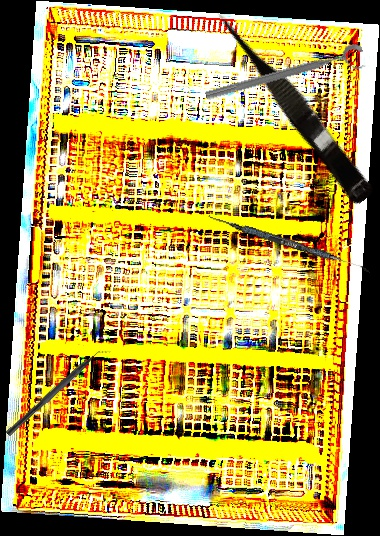Chopper: (5, 342, 113, 443)
Fixation Ring: (203, 42, 368, 113)
Micro Scissor: (208, 0, 380, 208)
Spatula Surgical: (206, 214, 373, 273)
